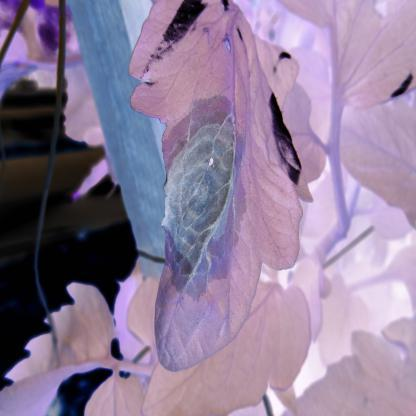Tomato leaf mosaic virus: (127, 4, 324, 384)
